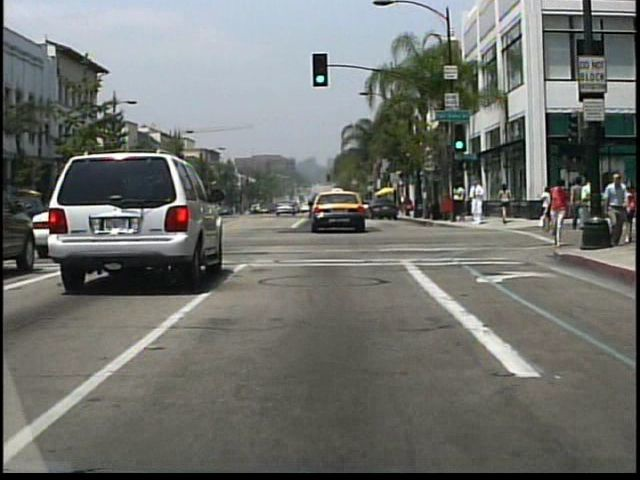person: (544, 178, 575, 248), (603, 177, 627, 249), (580, 174, 603, 242), (623, 176, 639, 241), (567, 178, 584, 231), (539, 186, 556, 230), (497, 183, 513, 226), (471, 181, 486, 226), (455, 180, 465, 223)
